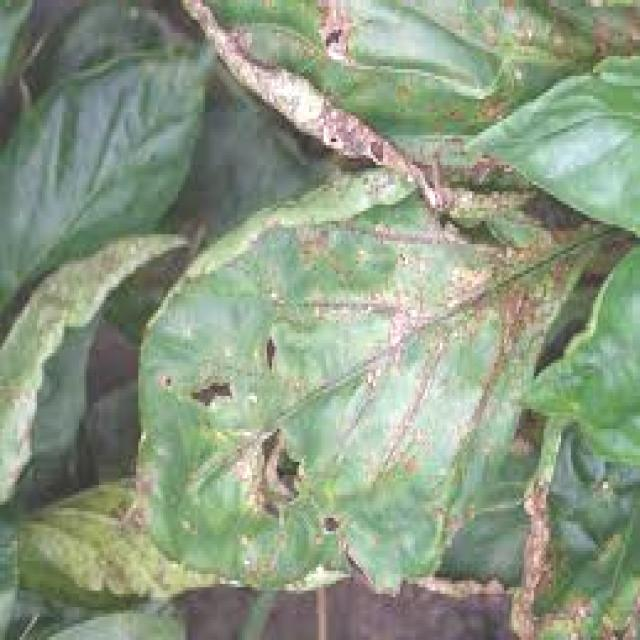Bercak Daun Serkospora: (117, 182, 616, 594)
